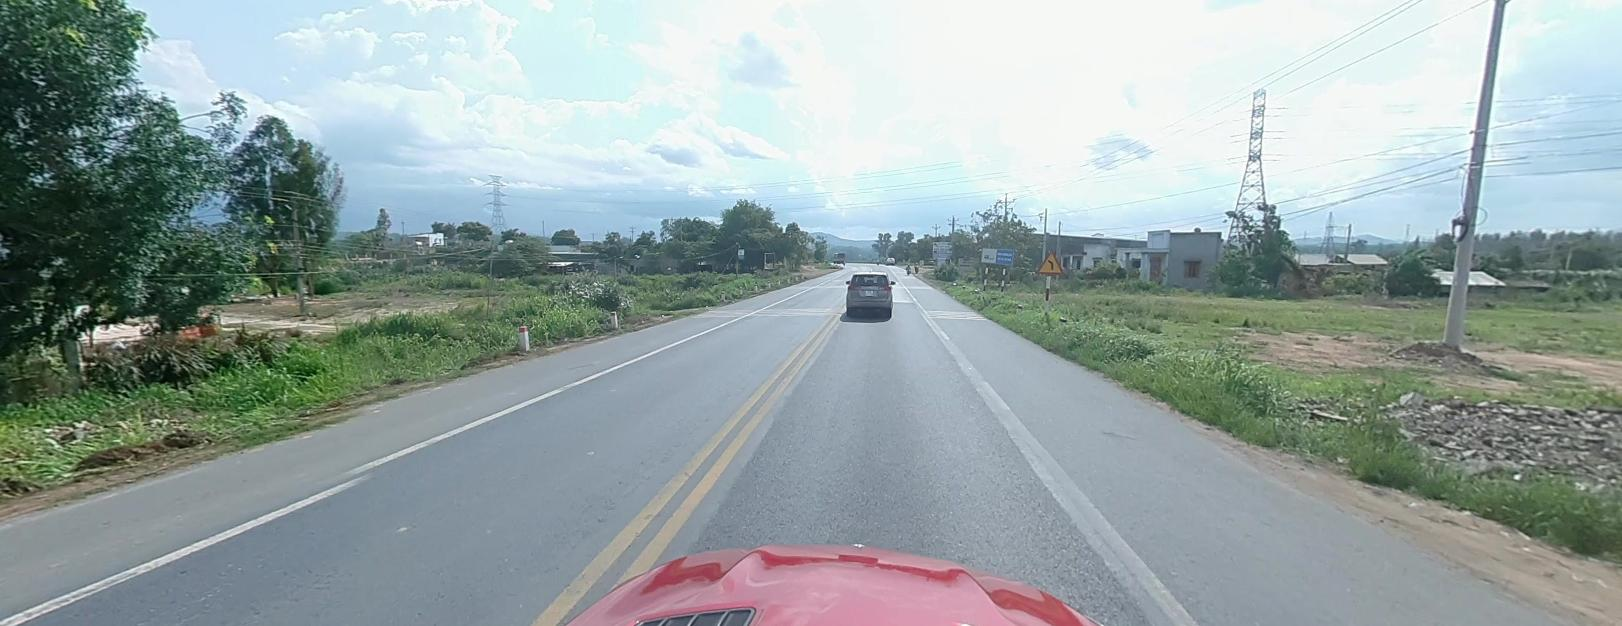Nguy hiem: (1035, 250, 1065, 273), (1037, 249, 1064, 273), (1035, 250, 1064, 273)
